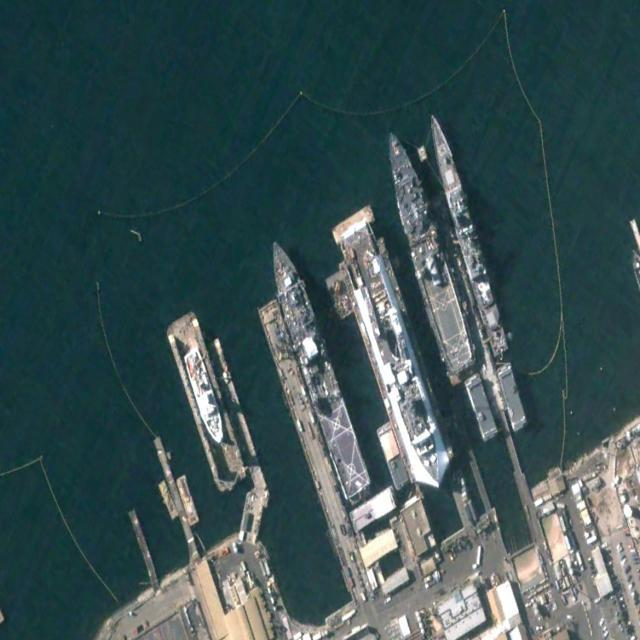Cruiser: (423, 109, 509, 360)
Landing: (262, 230, 374, 510), (374, 122, 479, 379)
Other Ship: (343, 222, 447, 490), (183, 346, 228, 448)
